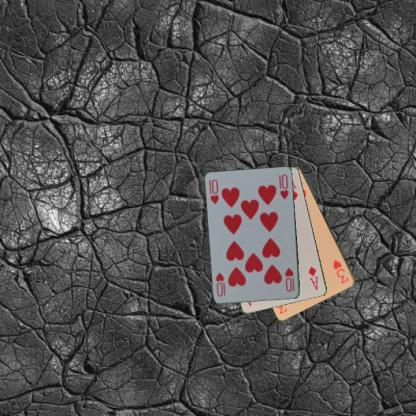10h: (282, 265, 296, 293), (208, 177, 220, 205)
3h: (331, 257, 350, 285)
Ad: (306, 264, 320, 291)
